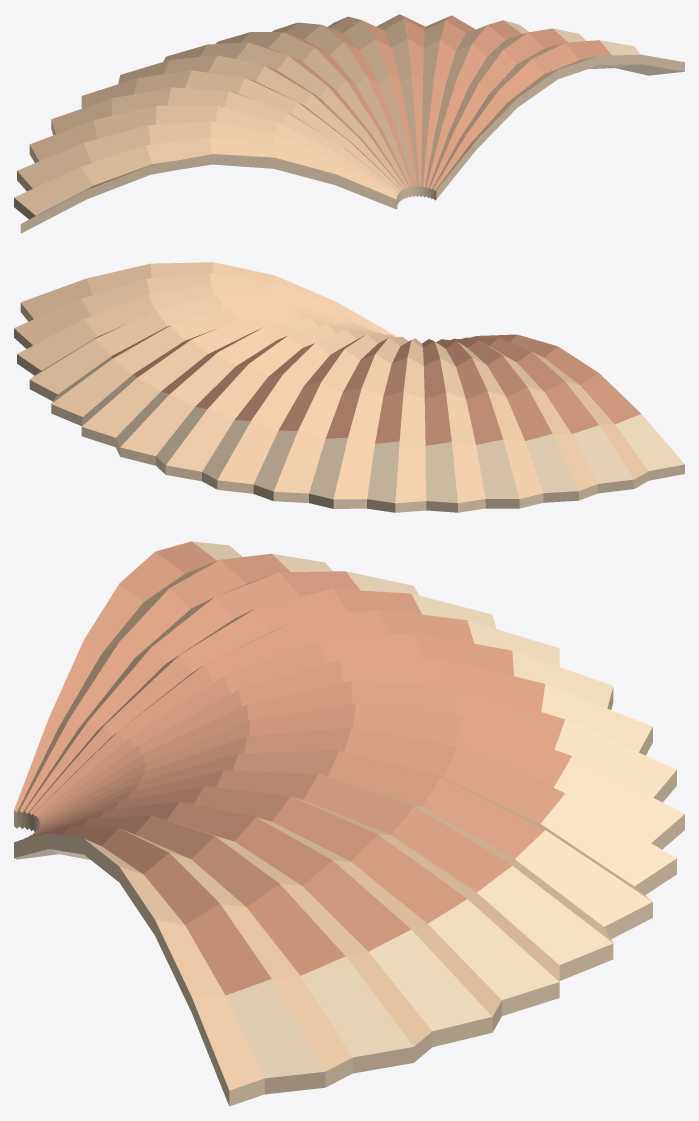
File: low_poly_shell.fbx
3 views of the same model, one above another, from view 1: azimuth 30°, elevation 25°; view 2: azimuth 150°, elevation 25°; view 3: azimuth 270°, elevation 25° (orthographic). The views are drawn at different scales.
Parts seen in each view (by area): view 1: Scallop_Shell; view 2: Scallop_Shell; view 3: Scallop_Shell.
Part boxes in pixels (x1=…): Scallop_Shell: x1=14, y1=14, x2=684, y2=233; Scallop_Shell: x1=14, y1=262, x2=684, y2=512; Scallop_Shell: x1=14, y1=541, x2=684, y2=1106.
Size of the model in its own units: 328 by 39.47 by 171.
